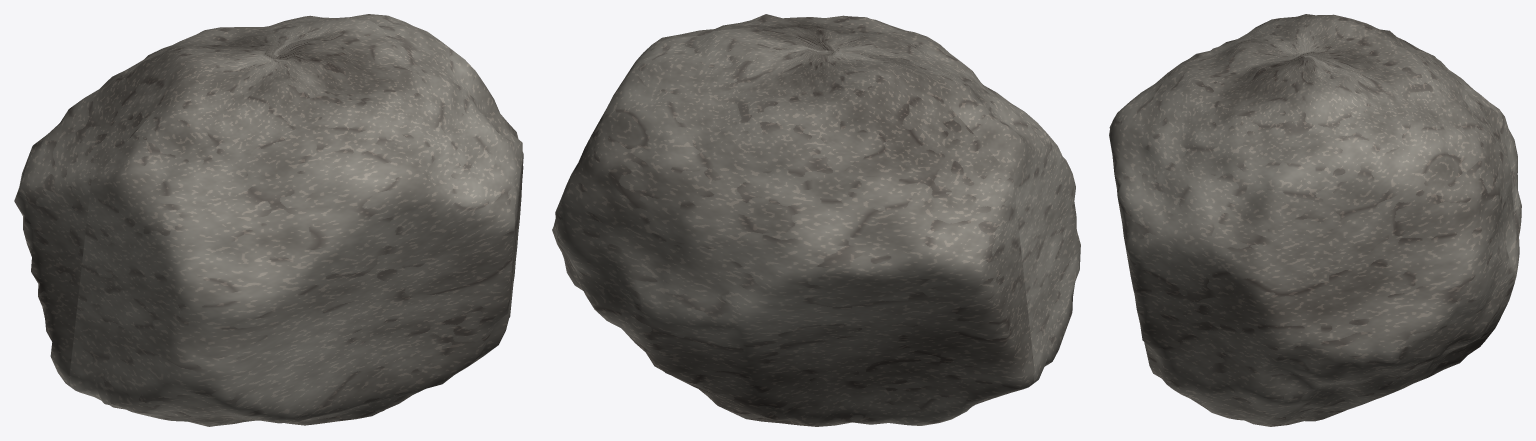
Rendered from PZ_R08_Massive_Moss_Boulder_Granite.glb.
3 views of the same model, side by side, from view 1: azimuth 30°, elevation 25°; view 2: azimuth 150°, elevation 25°; view 3: azimuth 270°, elevation 25° (orthographic). The views are drawn at different scales.
Visible parts, largest first — view 1: RENDER_R08_Massive_Moss_Boulder_Granite; view 2: RENDER_R08_Massive_Moss_Boulder_Granite; view 3: RENDER_R08_Massive_Moss_Boulder_Granite.
Part boxes in pixels (box(x1,y1,x2,y2)): RENDER_R08_Massive_Moss_Boulder_Granite: box(14, 14, 523, 426); RENDER_R08_Massive_Moss_Boulder_Granite: box(552, 14, 1080, 426); RENDER_R08_Massive_Moss_Boulder_Granite: box(1109, 14, 1521, 426).
Size of the model in its own units: 3 by 2.16 by 2.55.
Materials: 1 (1 with a texture image).
